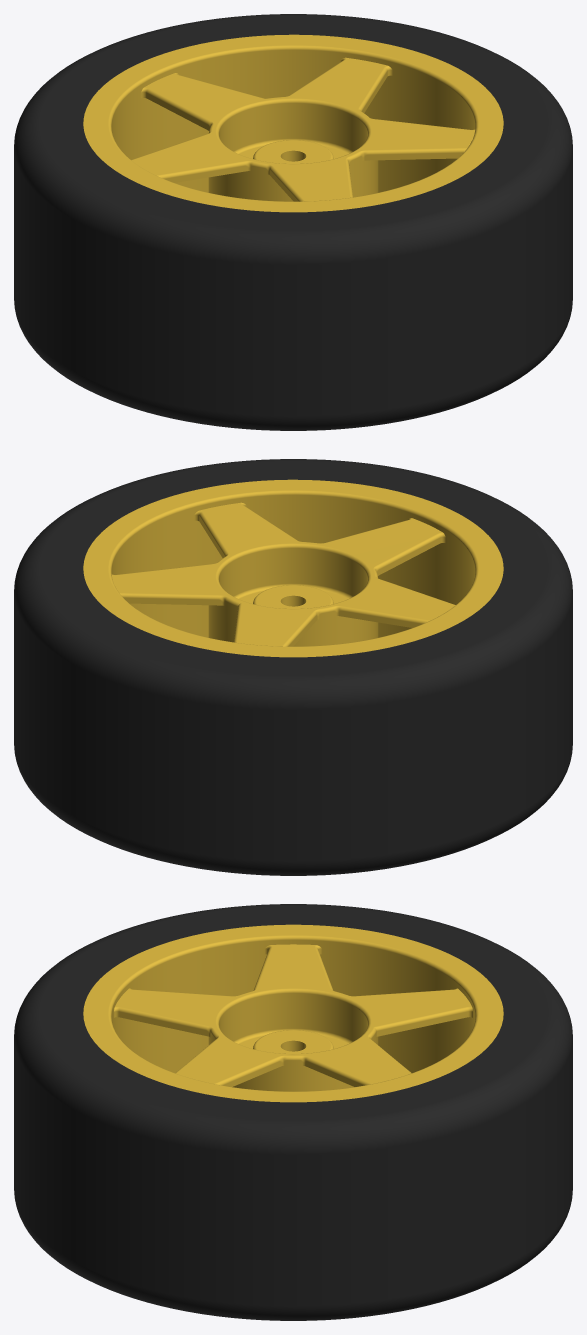
Rendered from wheel.obj.
The picture shows the model from 3 angles, top to bottom: view 1: azimuth 30°, elevation 25°; view 2: azimuth 150°, elevation 25°; view 3: azimuth 270°, elevation 25°; orthographic projection.
Parts seen in each view (by area): view 1: wheel; view 2: wheel; view 3: wheel.
Boxes of the visible parts, box(x1,y1,x2,y2) form: wheel: box(14, 14, 572, 430); wheel: box(14, 459, 572, 875); wheel: box(14, 904, 572, 1320).
Bounding box in the file's own units: 0.0653 × 0.0327 × 0.0653.
